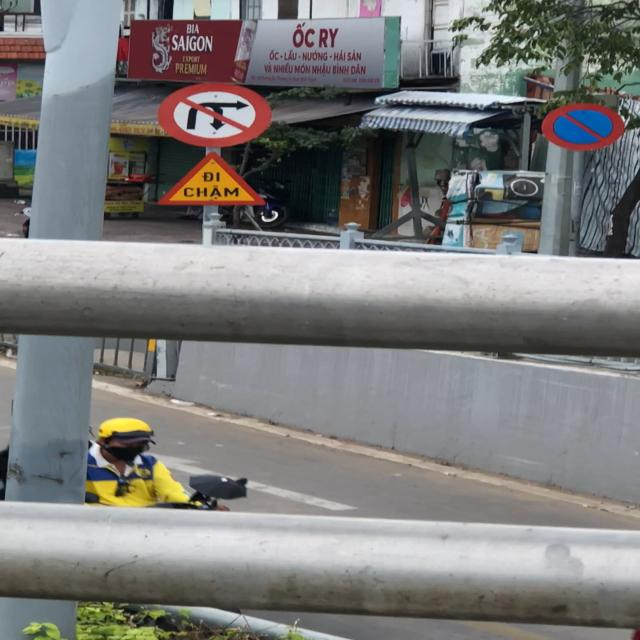Bien bao cam do xe: (537, 101, 630, 155)
Bien bao cam re phai va quay dau: (154, 80, 272, 148)
Bien bao di cham: (154, 152, 274, 210)
